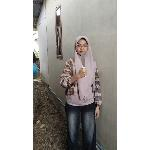Pisau: (80, 49, 89, 81)
